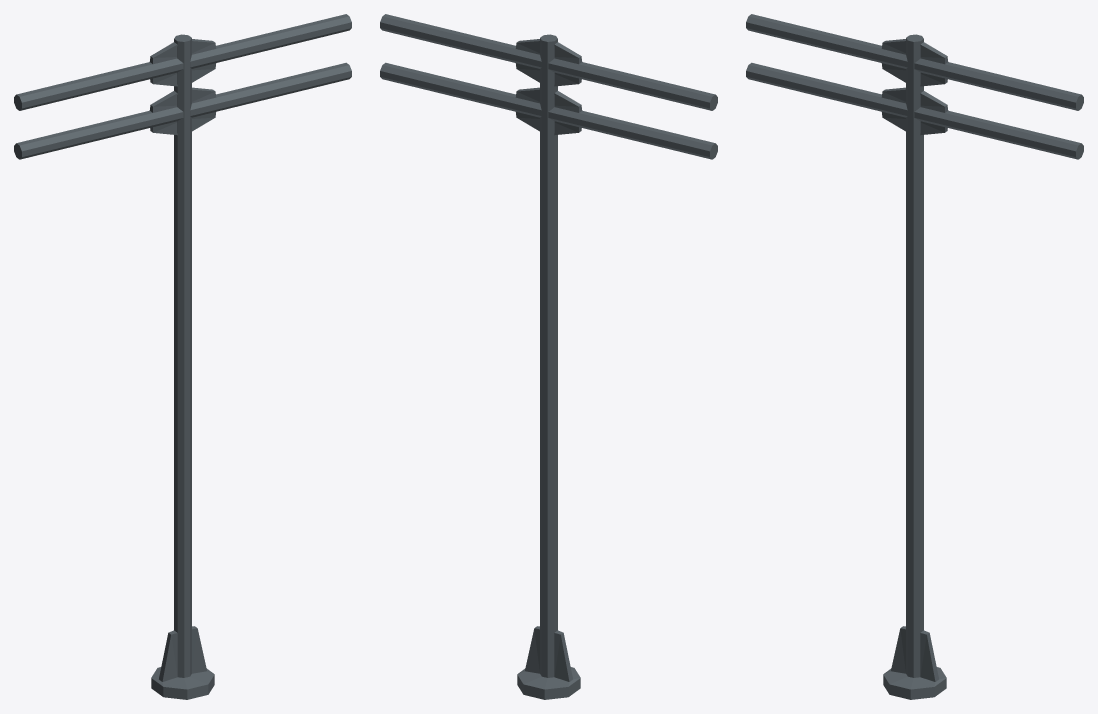
The model's file is SM_Prop_SIgn_Pole_03.fbx.
The picture shows the model from 3 angles, left to right: view 1: azimuth 30°, elevation 25°; view 2: azimuth 150°, elevation 25°; view 3: azimuth 330°, elevation 25°; orthographic projection.
Visible parts, largest first — view 1: SM_Prop_SIgn_Pole_03; view 2: SM_Prop_SIgn_Pole_03; view 3: SM_Prop_SIgn_Pole_03.
Boxes of the visible parts, left/top/right/bottom form: SM_Prop_SIgn_Pole_03: left=14, top=14, right=351, bottom=699; SM_Prop_SIgn_Pole_03: left=380, top=14, right=717, bottom=699; SM_Prop_SIgn_Pole_03: left=746, top=14, right=1083, bottom=699.
Bounding box in the file's own units: 321 × 603 × 50.01.
